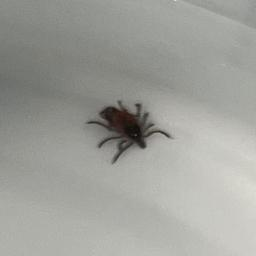Ixodes scapularis: (86, 105, 176, 165)
